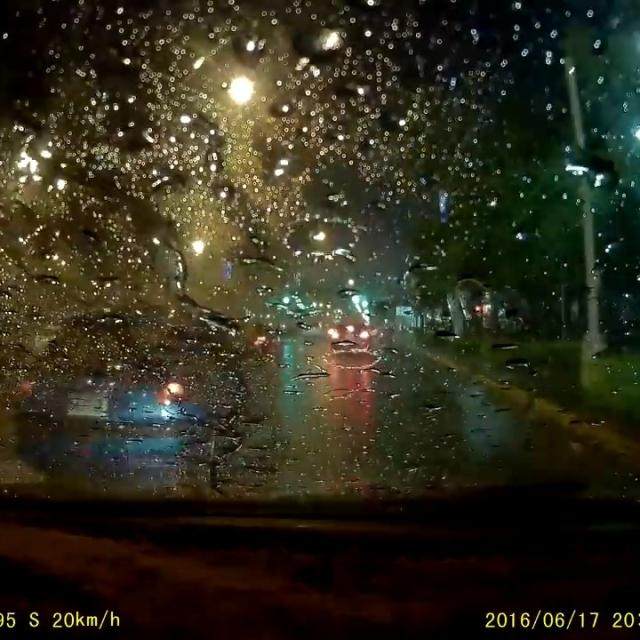Car: (10, 306, 264, 485), (327, 314, 372, 354), (296, 317, 323, 342)
